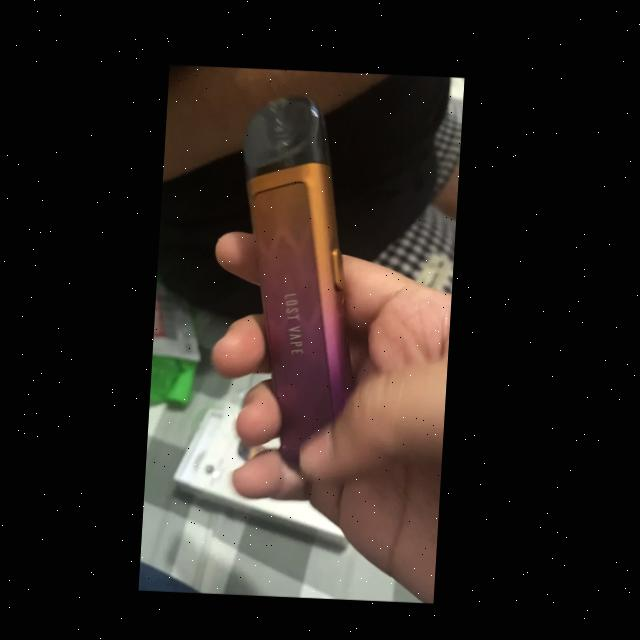vape: (229, 91, 373, 441)
